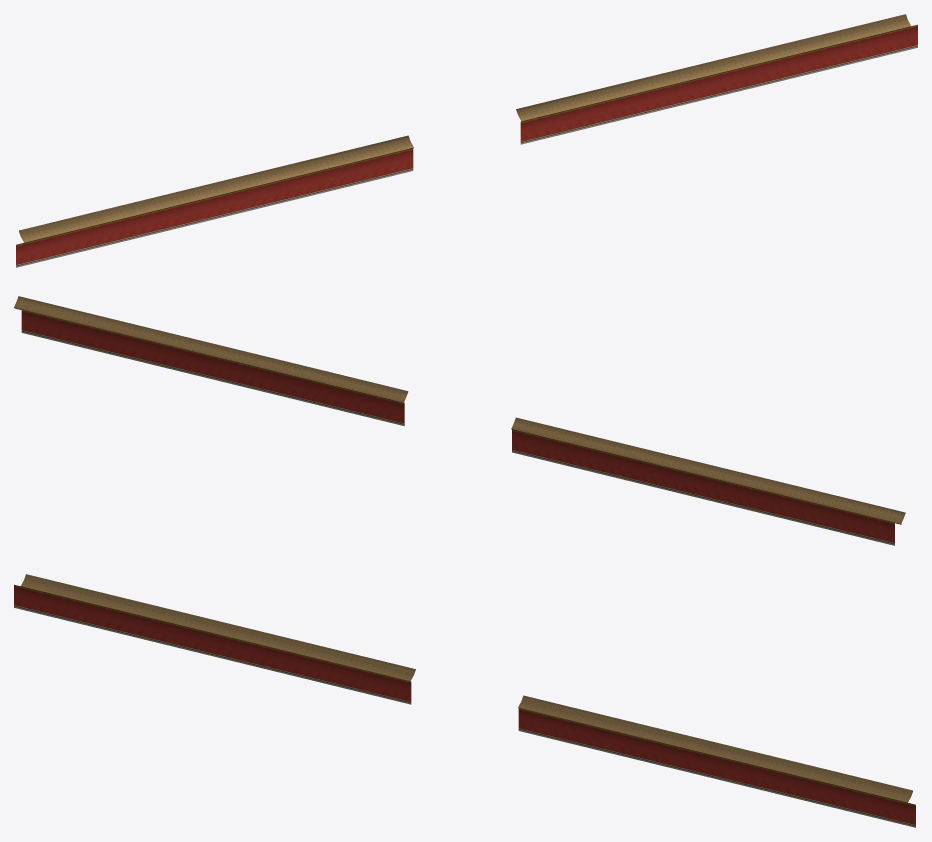
The model's file is cj_pal_dam_center01.glb.
3 renders of one model, top to bottom at view 1: azimuth 30°, elevation 25°; view 2: azimuth 150°, elevation 25°; view 3: azimuth 330°, elevation 25°, orthographic.
Parts seen in each view (by area): view 1: CJ_pal_dam_center01_wall, CJ_pal_dam_center01_roof; view 2: CJ_pal_dam_center01_wall, CJ_pal_dam_center01_roof; view 3: CJ_pal_dam_center01_wall, CJ_pal_dam_center01_roof.
Boxes of the visible parts, x1=… form: CJ_pal_dam_center01_wall: x1=16, y1=24, x2=917, y2=267; CJ_pal_dam_center01_roof: x1=19, y1=14, x2=911, y2=243; CJ_pal_dam_center01_wall: x1=21, y1=310, x2=894, y2=545; CJ_pal_dam_center01_roof: x1=14, y1=296, x2=905, y2=524; CJ_pal_dam_center01_wall: x1=14, y1=584, x2=915, y2=827; CJ_pal_dam_center01_roof: x1=20, y1=574, x2=912, y2=803.
Bounding box in the file's own units: 194 × 6.6 × 3.7.
Materials: 2 (2 with a texture image).
